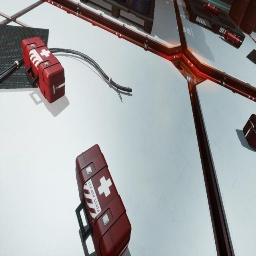FireExtinguisher ]: (220, 28, 242, 48), (203, 2, 220, 17)
FirstAidBox ,: (75, 144, 131, 256), (22, 37, 65, 103), (243, 114, 256, 149)
